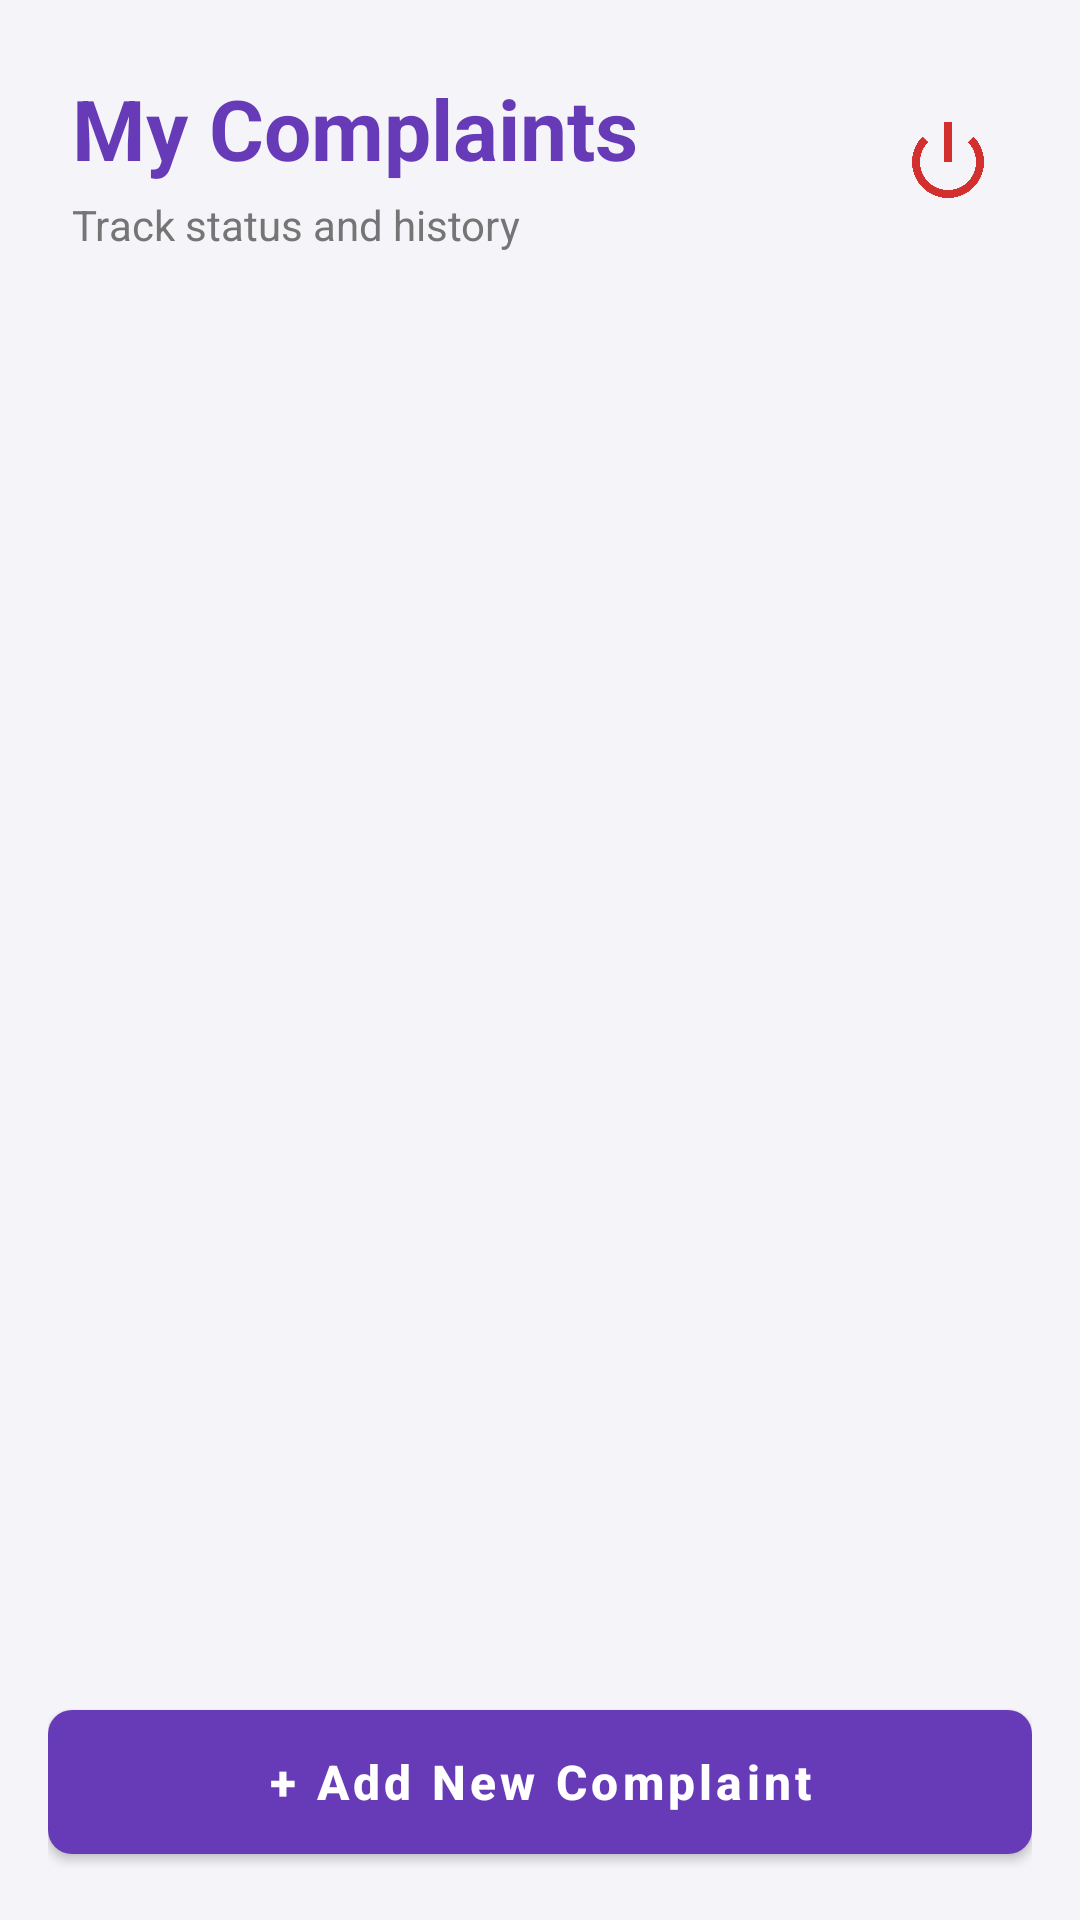

Screen size 1080px×1920px. Icon name, then its box in pixels as (x1, y1, x2, y2):
lock power off: (912, 122, 984, 198)
